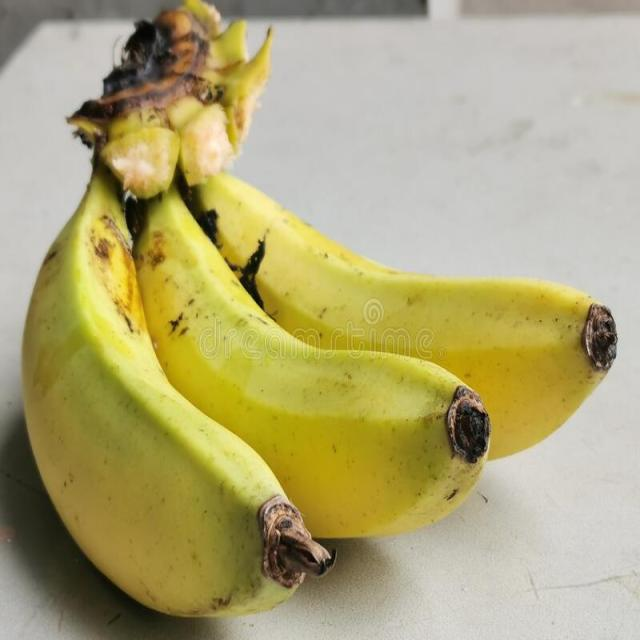banana: (23, 1, 619, 619)
